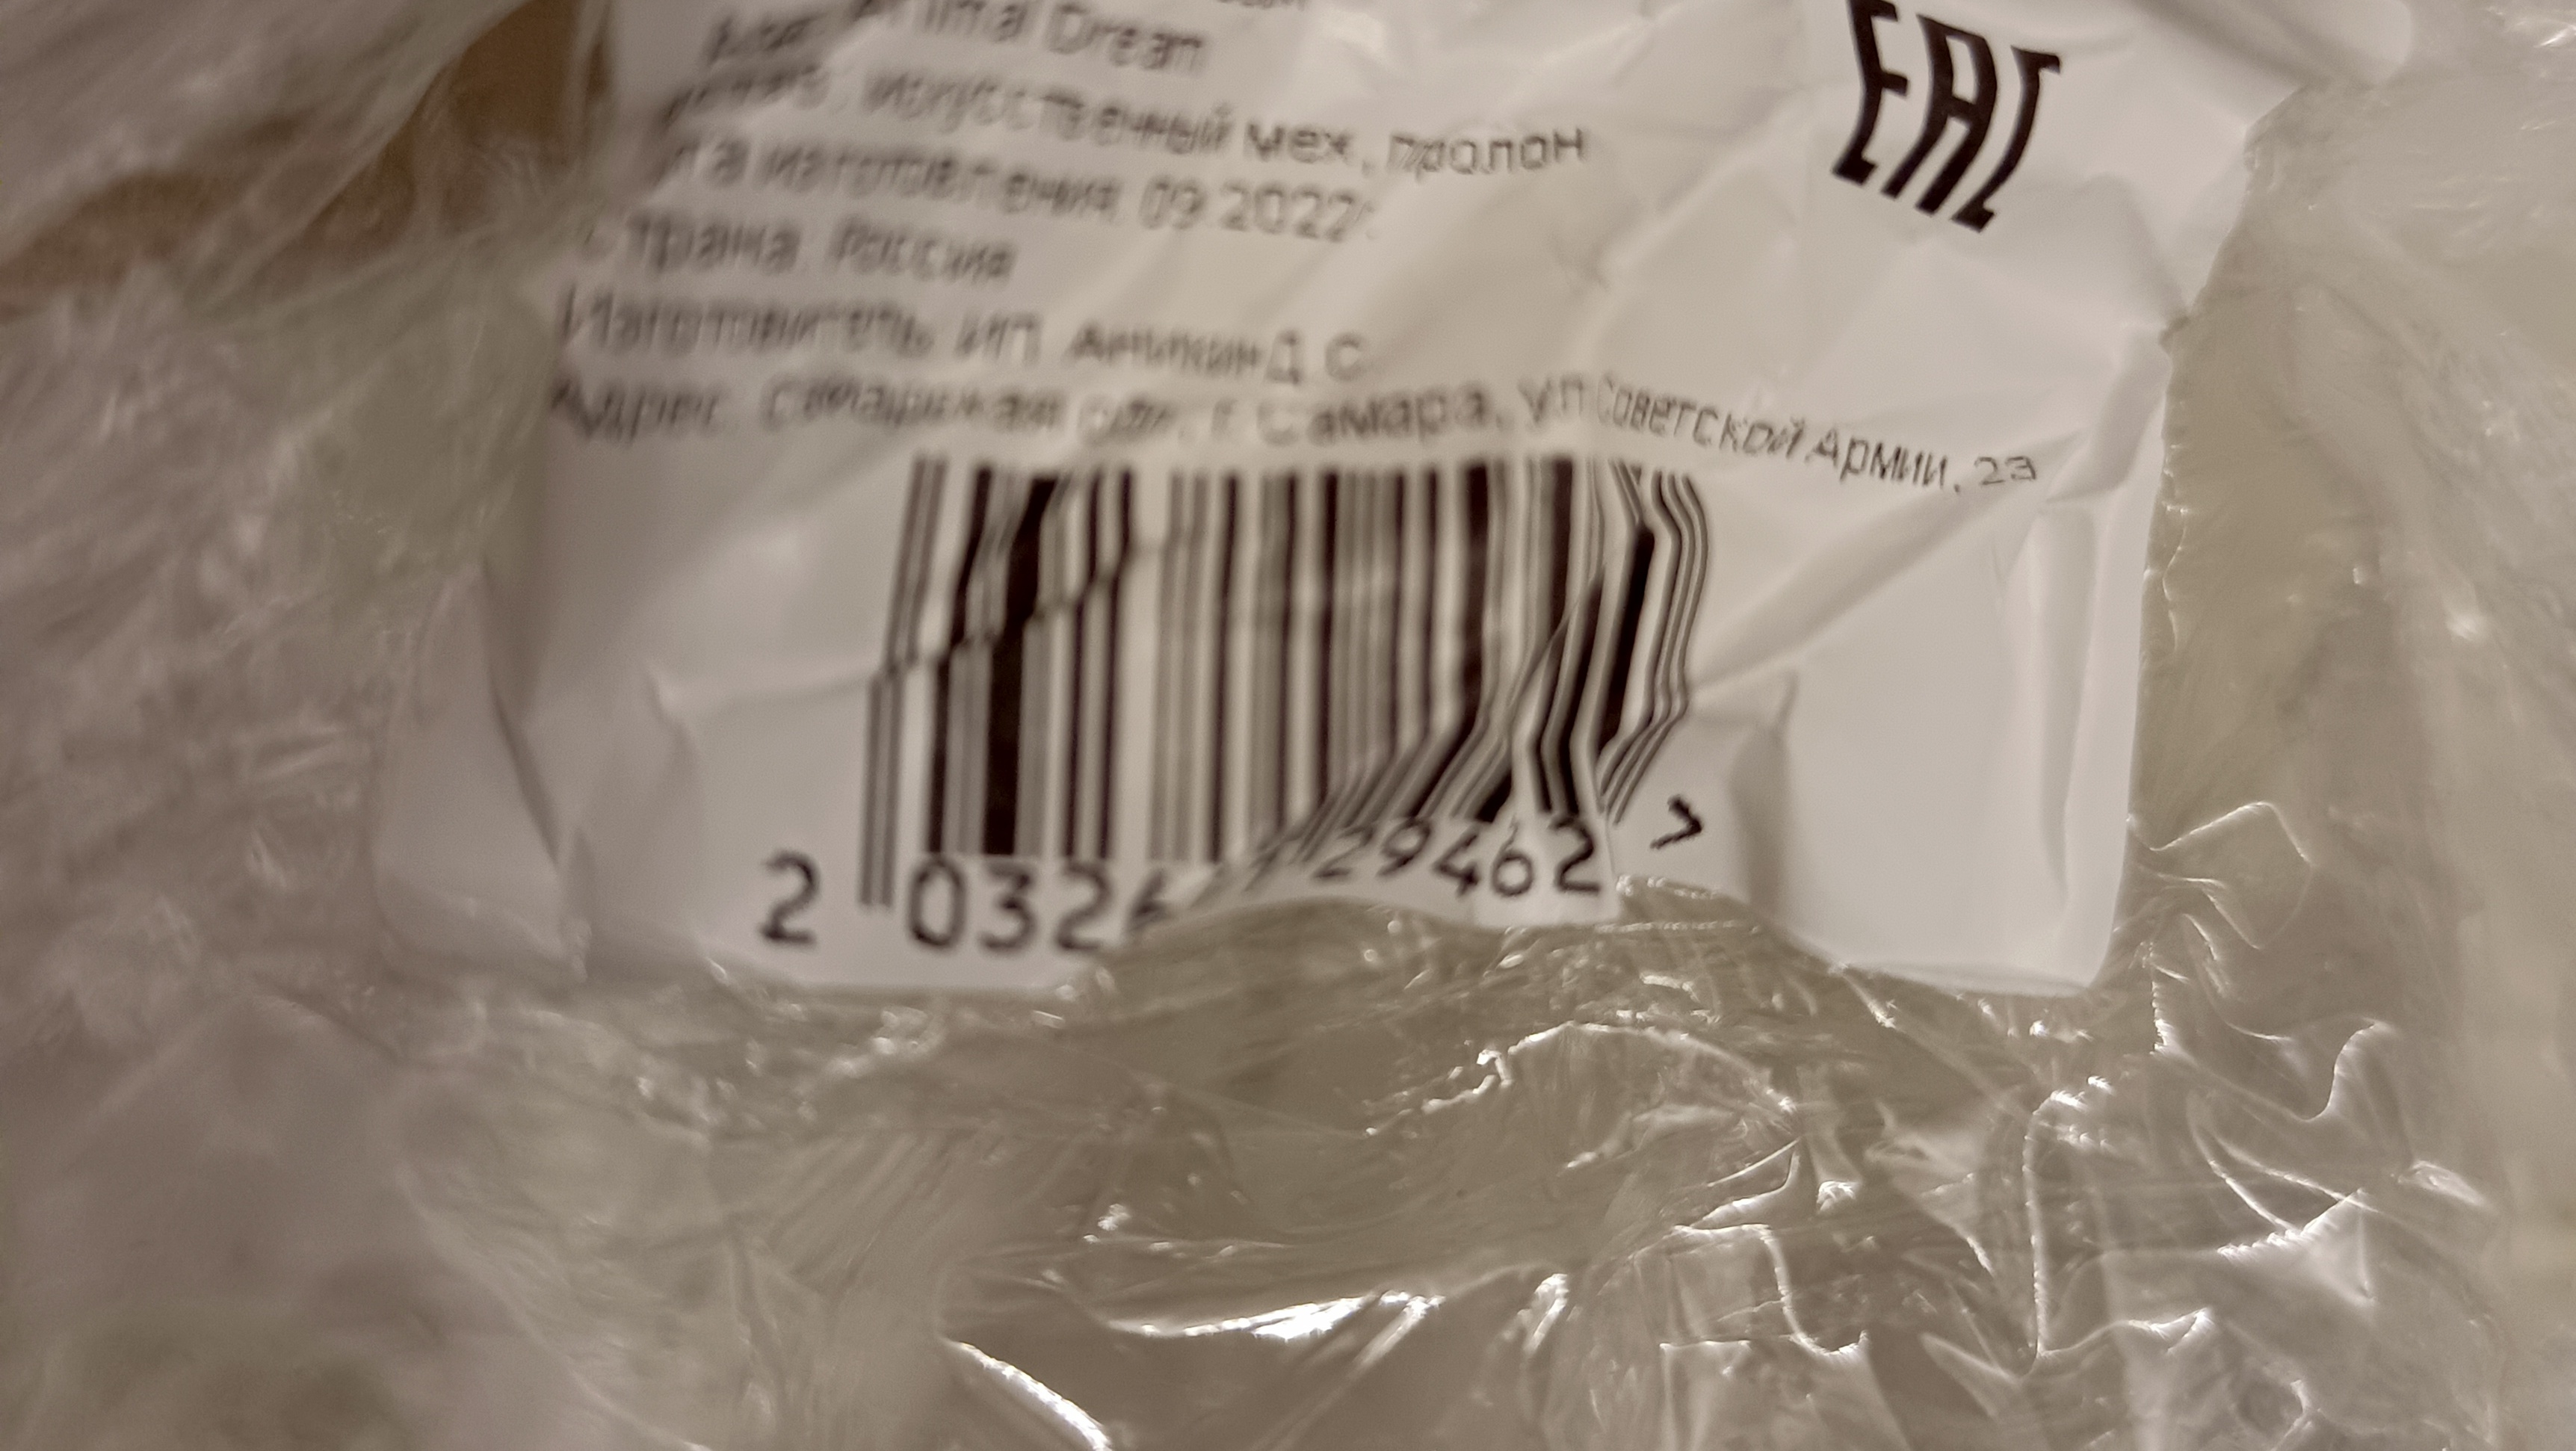1d: (853, 448, 1721, 869)
